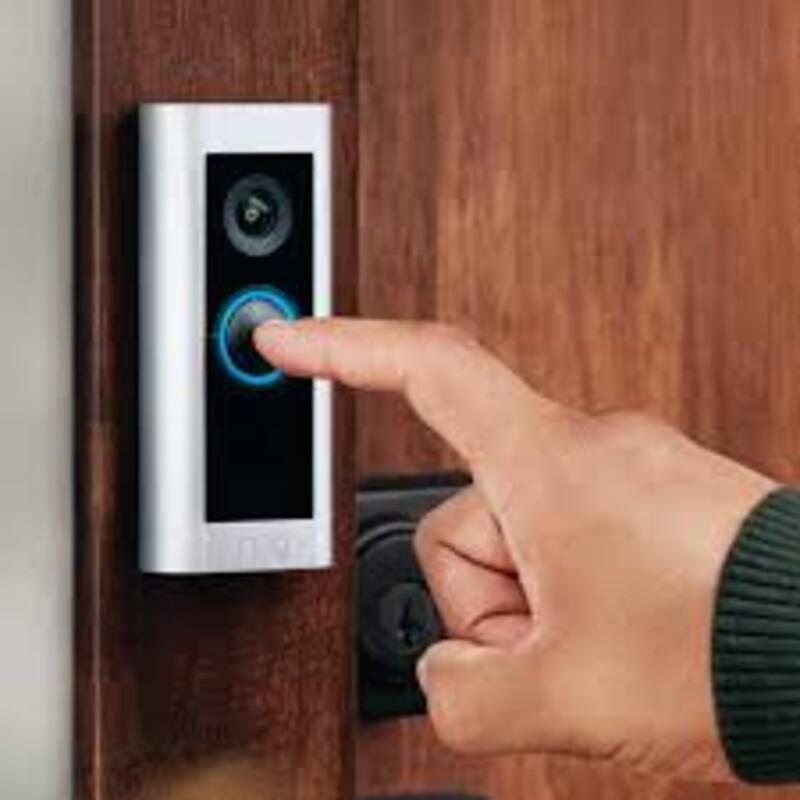doorbell: (128, 85, 352, 582)
